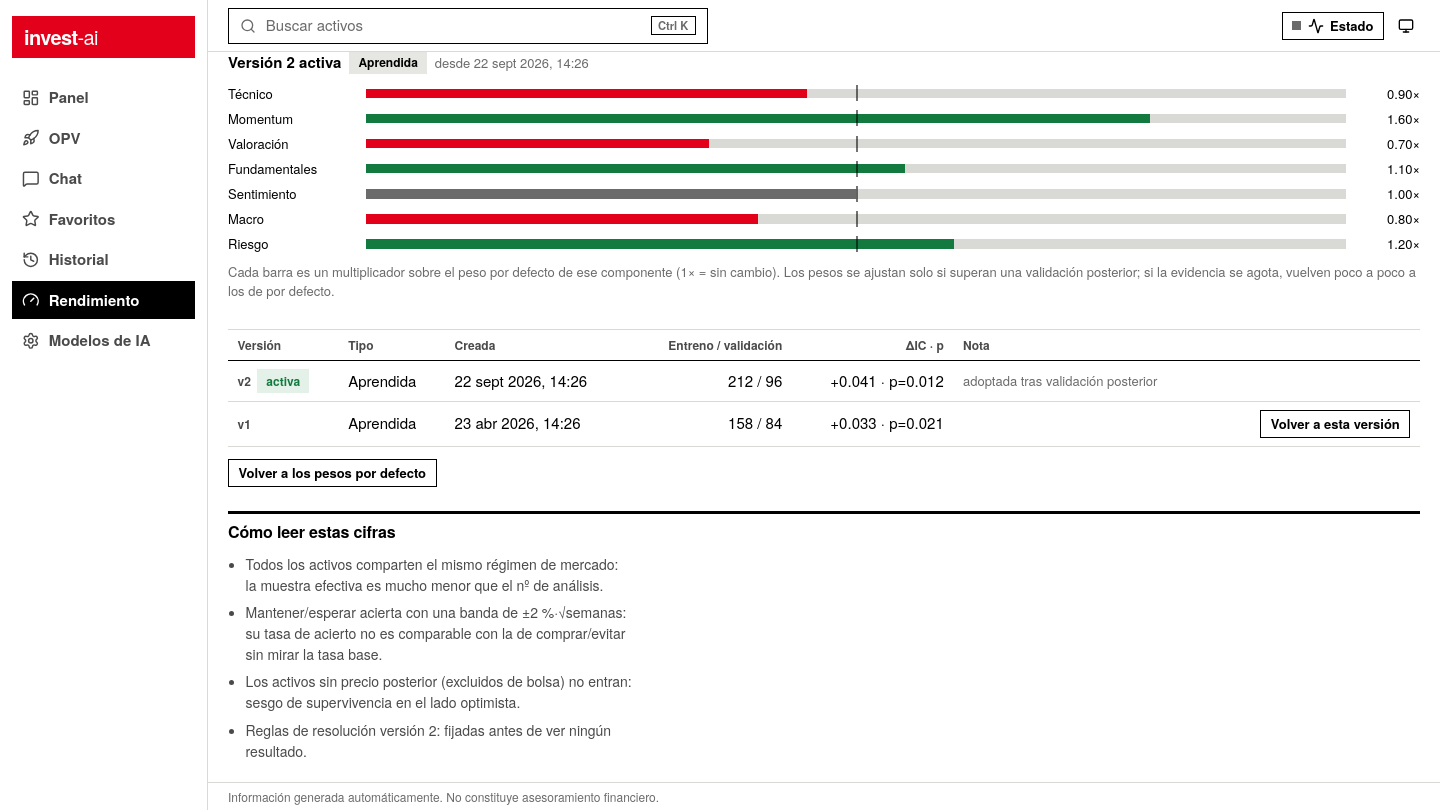
Test: PerformancePage › volver a una versión de pesos pide confirmación y crea la versión nueva
(page scrolled)
Click the button with aria-label "Volver a la versión 1" at (1335, 424), box [1260,410,1410,438]
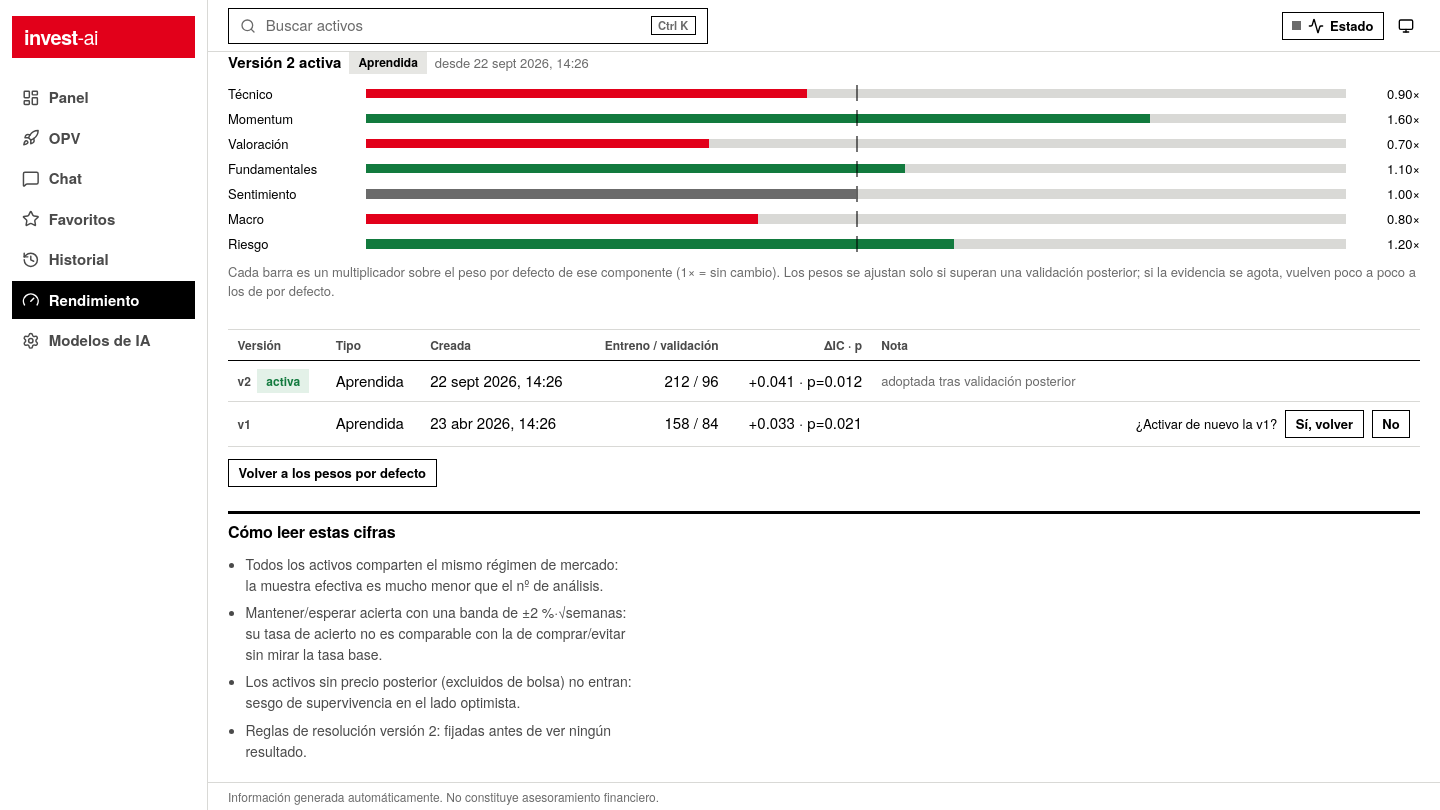
Result: the text "¿Activar de nuevo la v1?" is shown at [1136,414,1277,433]
Click the button "No" at (1391, 424), box [1372,410,1410,438]
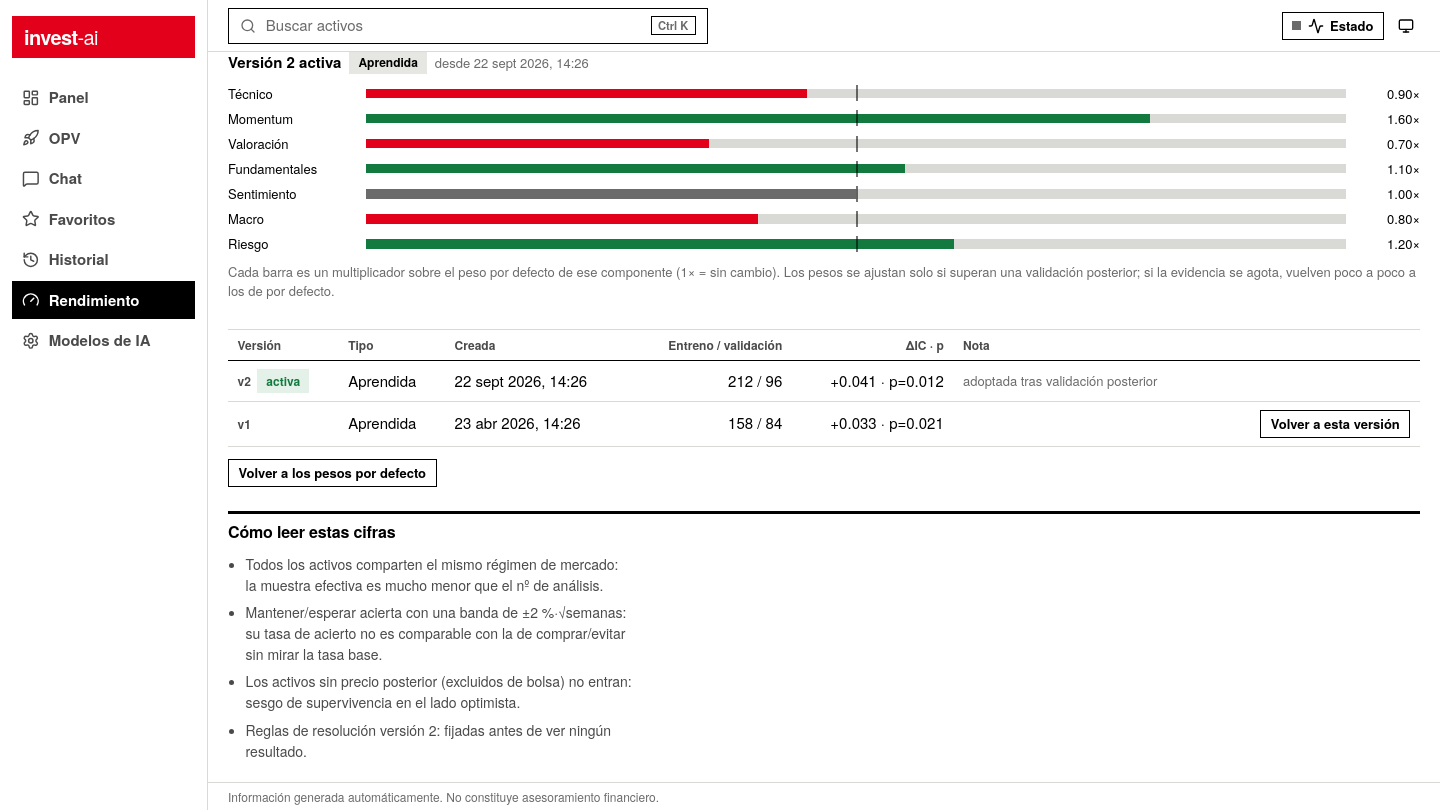
Click the button with aria-label "Volver a la versión 1" at (1335, 424), box [1260,410,1410,438]
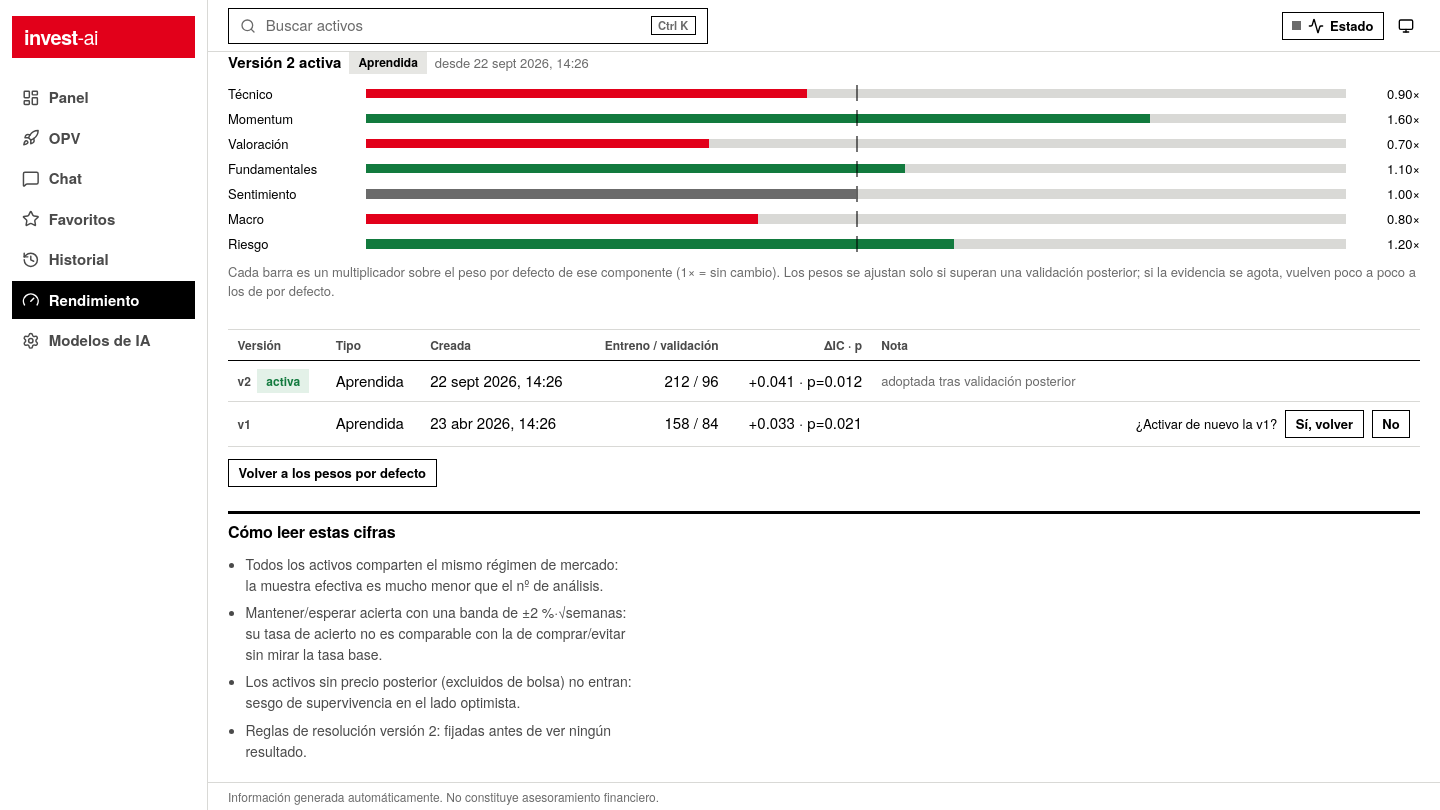
Click the button "Sí, volver" at (1325, 424), box [1285,410,1364,438]
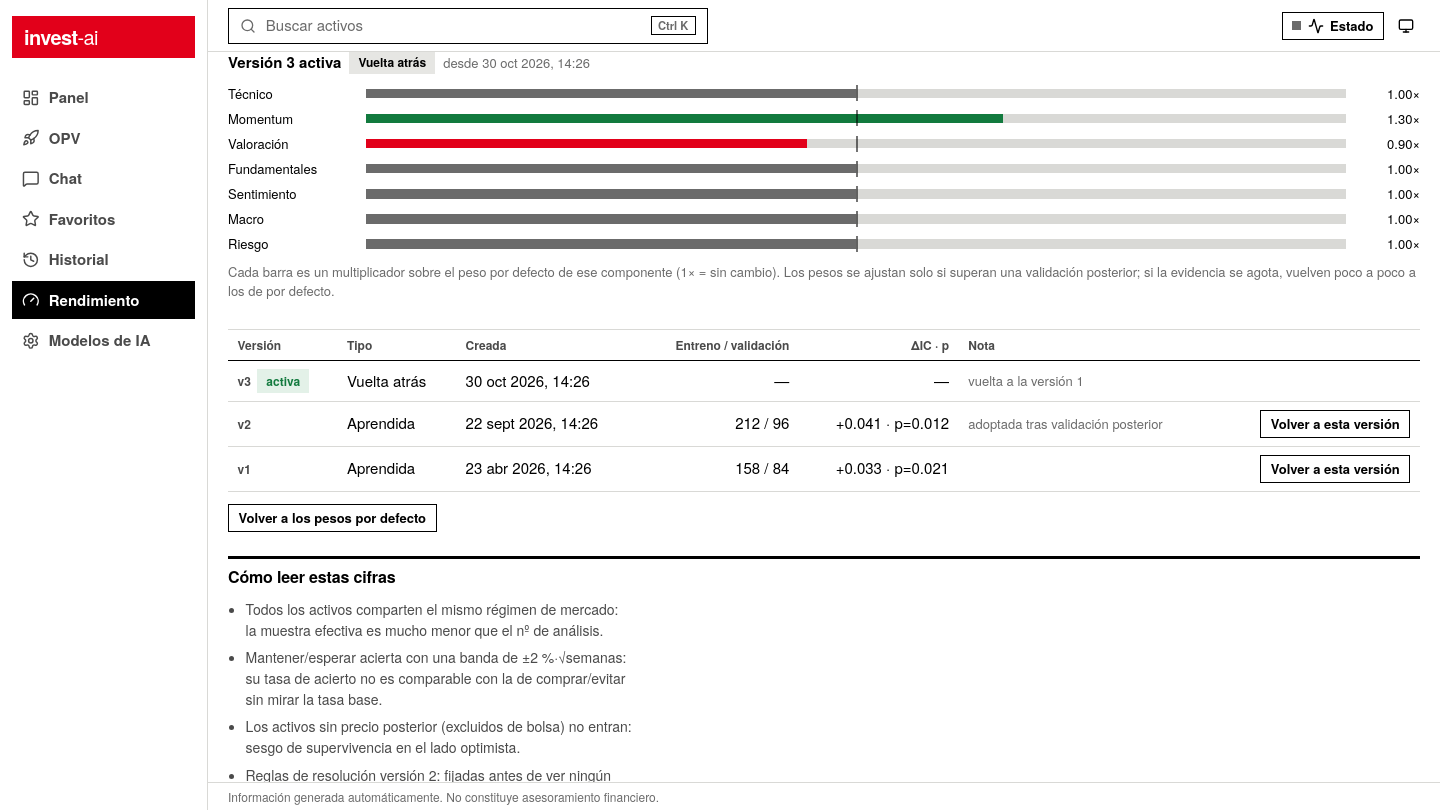
Result: the text "Versión 3 activa" is shown at [228,51,341,74]
